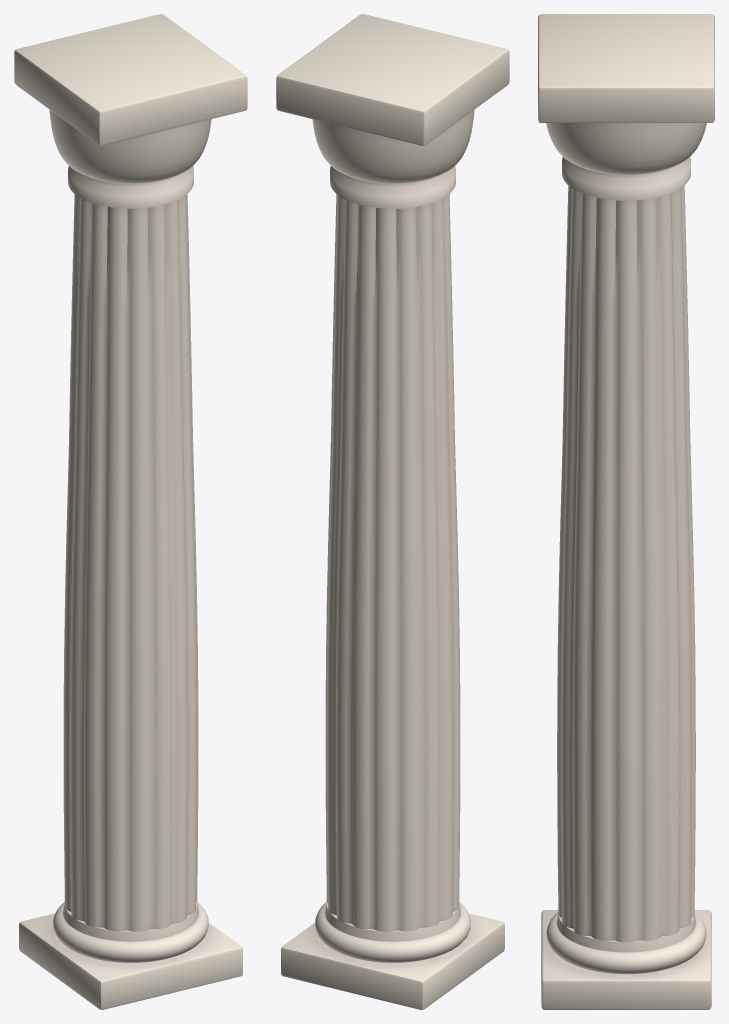
Rendered from chamber_column.glb.
3 views of the same model, side by side, from view 1: azimuth 30°, elevation 25°; view 2: azimuth 150°, elevation 25°; view 3: azimuth 270°, elevation 25° (orthographic). The views are drawn at different scales.
Visible parts, largest first — view 1: column_body; view 2: column_body; view 3: column_body.
Boxes of the visible parts, bbox=[...] form: column_body: bbox=[14, 14, 247, 1009]; column_body: bbox=[276, 14, 509, 1009]; column_body: bbox=[538, 14, 714, 1009].
Bounding box in the file's own units: 0.52 × 3 × 0.52.
1 material, 1 textured.
